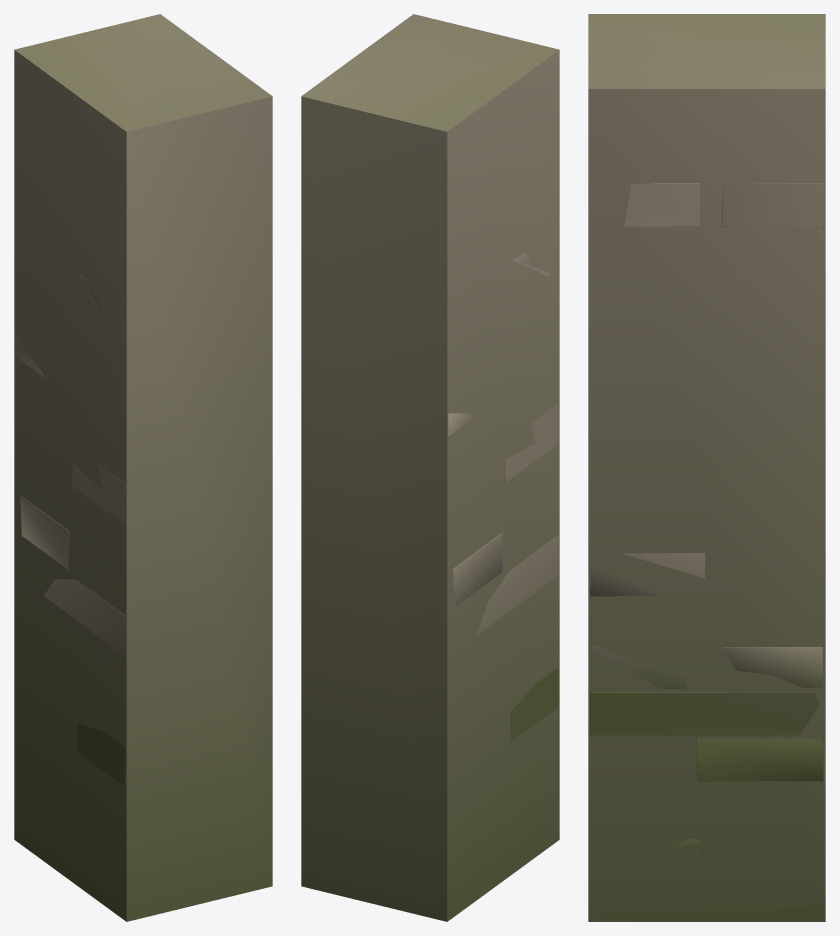
Rendered from viaduct_pier_stump.glb.
3 renders of one model, left to right at view 1: azimuth 30°, elevation 25°; view 2: azimuth 150°, elevation 25°; view 3: azimuth 270°, elevation 25°, orthographic. The views are drawn at different scales.
Visible parts, largest first — view 1: viaduct_pier_stump_far, viaduct_pier_stump; view 2: viaduct_pier_stump_far, viaduct_pier_stump; view 3: viaduct_pier_stump_far, viaduct_pier_stump.
Boxes of the visible parts, x1=… form: viaduct_pier_stump_far: x1=14, y1=14, x2=272, y2=921; viaduct_pier_stump: x1=15, y1=274, x2=125, y2=879; viaduct_pier_stump_far: x1=301, y1=14, x2=559, y2=921; viaduct_pier_stump: x1=448, y1=252, x2=558, y2=918; viaduct_pier_stump_far: x1=588, y1=14, x2=825, y2=921; viaduct_pier_stump: x1=589, y1=183, x2=823, y2=920.
Bounding box in the file's own units: 6.04 × 31 × 8.
